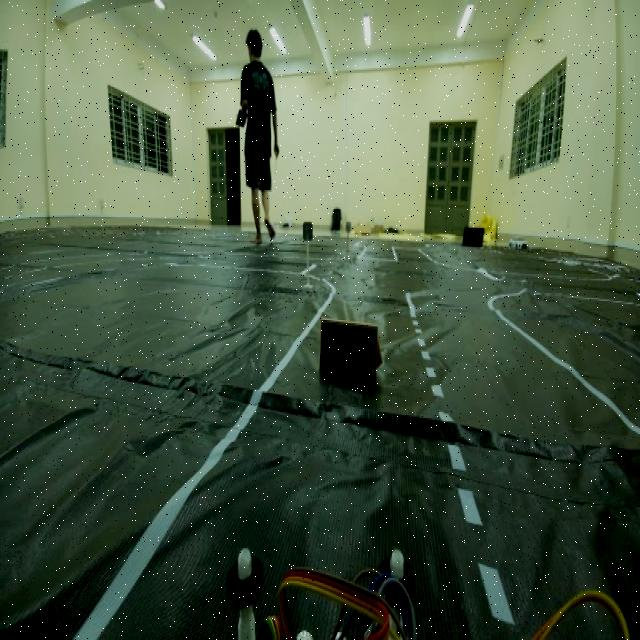roadblock: (308, 301, 396, 396)
